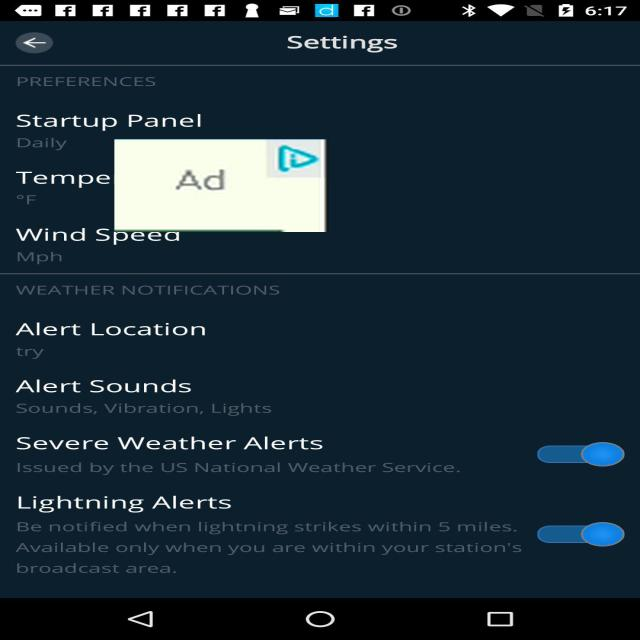sneaking: (114, 139, 328, 232)
